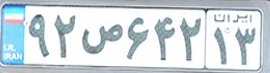character: (80, 11, 124, 59), (177, 12, 203, 65), (125, 11, 152, 62), (51, 11, 79, 59), (152, 12, 177, 63), (25, 12, 51, 58), (234, 24, 258, 67), (211, 25, 232, 66)
